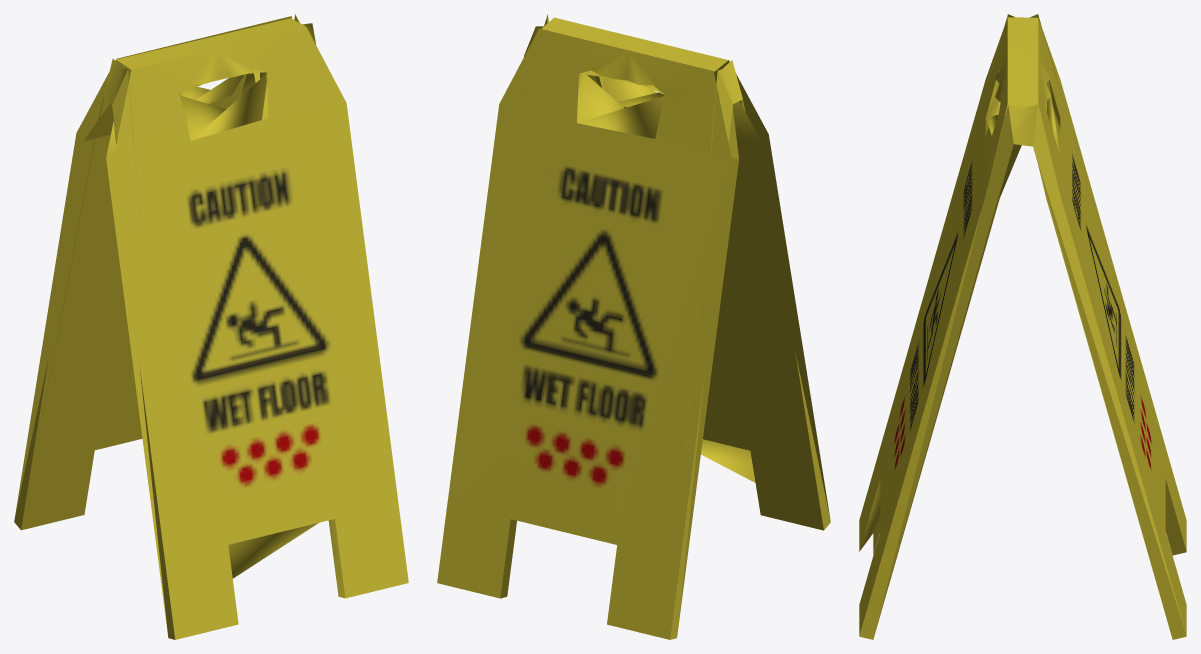
File: WetFloorSign.fbx
The picture shows the model from 3 angles, left to right: view 1: azimuth 30°, elevation 25°; view 2: azimuth 150°, elevation 25°; view 3: azimuth 270°, elevation 25°; orthographic projection.
Visible parts, largest first — view 1: табличка мокрый пол; view 2: табличка мокрый пол; view 3: табличка мокрый пол.
Boxes of the visible parts, box(x1,y1,x2,y2) form: табличка мокрый пол: box(14, 14, 408, 639); табличка мокрый пол: box(437, 14, 830, 639); табличка мокрый пол: box(859, 14, 1186, 639).
Bounding box in the file's own units: 0.3001 × 0.6323 × 0.3585.
Materials: 1 (1 with a texture image).
